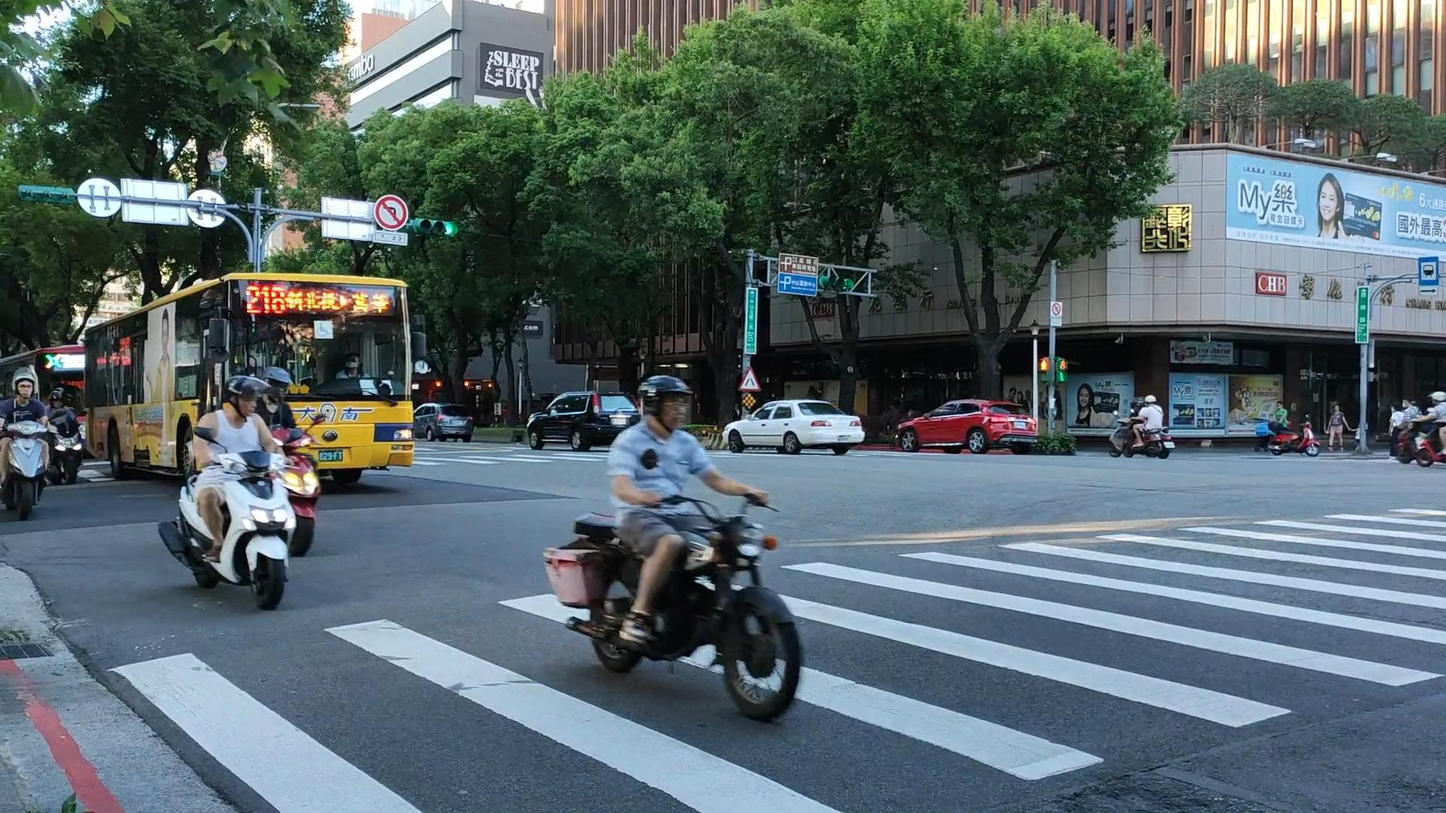driver: (543, 375, 802, 720), (158, 376, 303, 610), (256, 366, 325, 557), (0, 366, 67, 521), (1123, 395, 1175, 459)
helmet: (636, 375, 693, 434), (223, 376, 271, 423), (260, 367, 291, 404), (12, 366, 35, 399)
